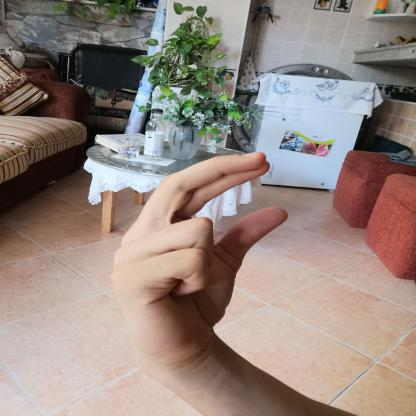DHELL: (100, 143, 302, 371)
